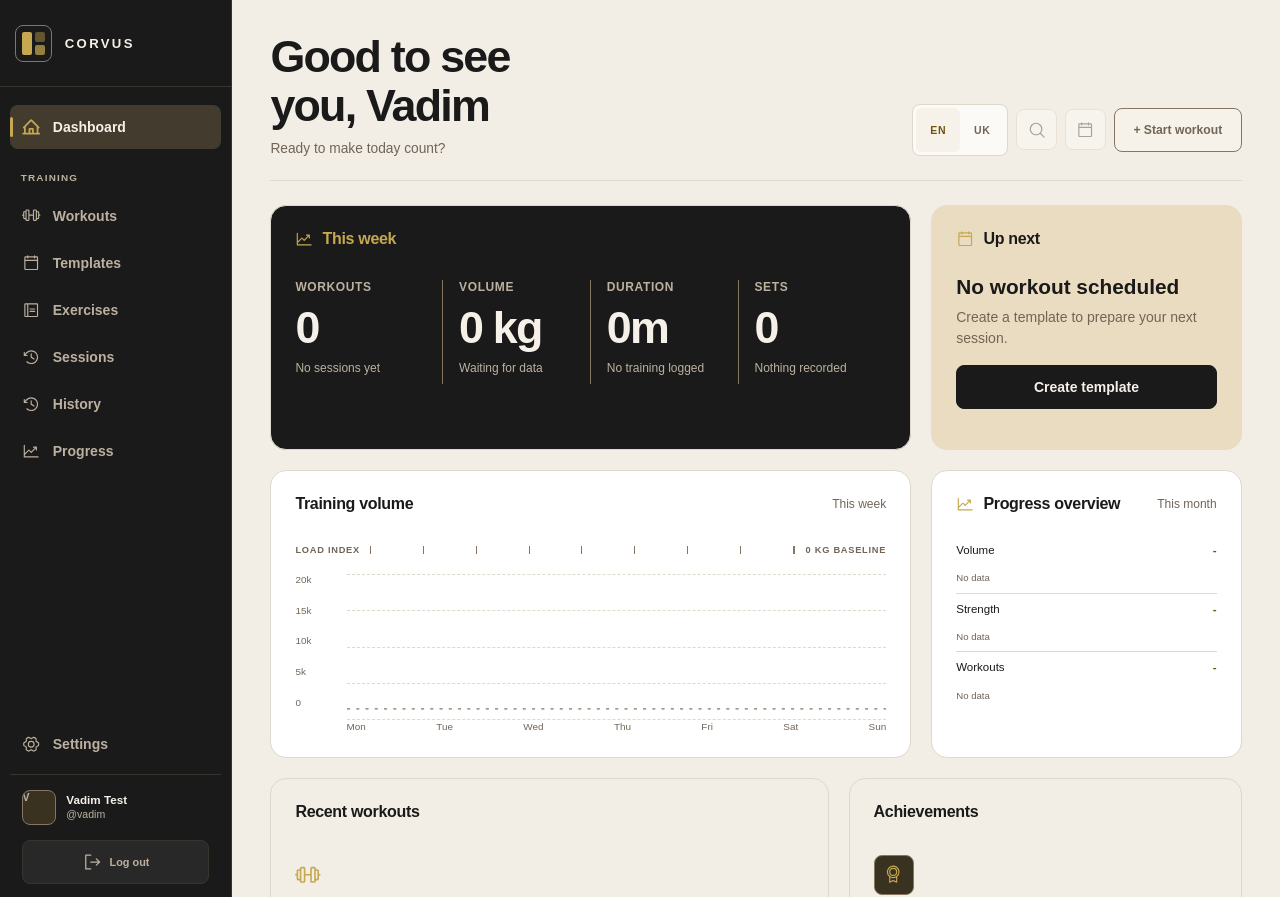
it: exercise catalog › searches across localized names and muscle groups, then offers recovery
The image size is (1280, 897).
Step 1. Click the button "Exercises" → (116, 310), box [10,288,221,332]
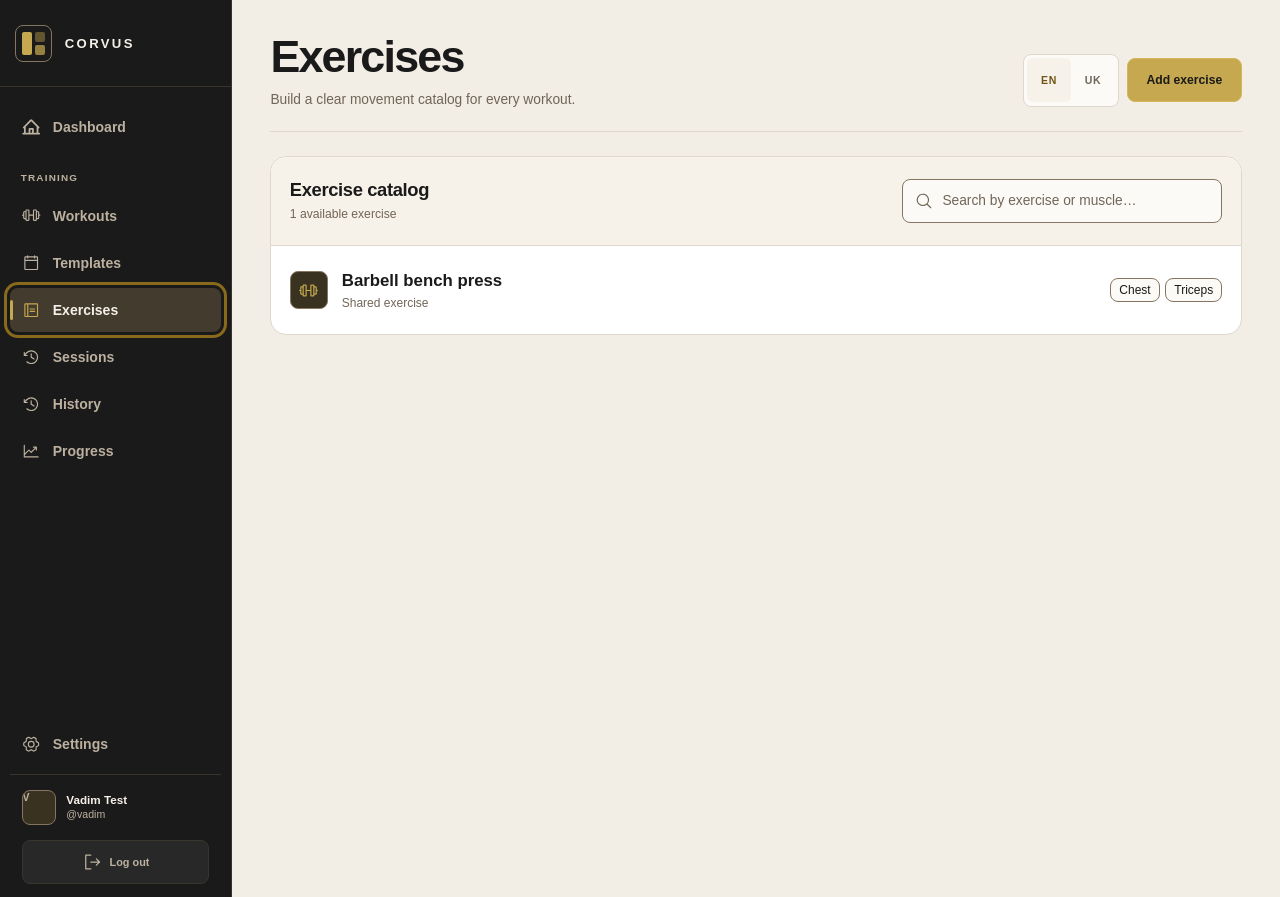
Now the heading "Barbell bench press" is shown, box [342,270,502,292]
Step 2. Type "bench груди" into the search field named "Search exercises" → (1062, 201), box [902,179,1222,223]
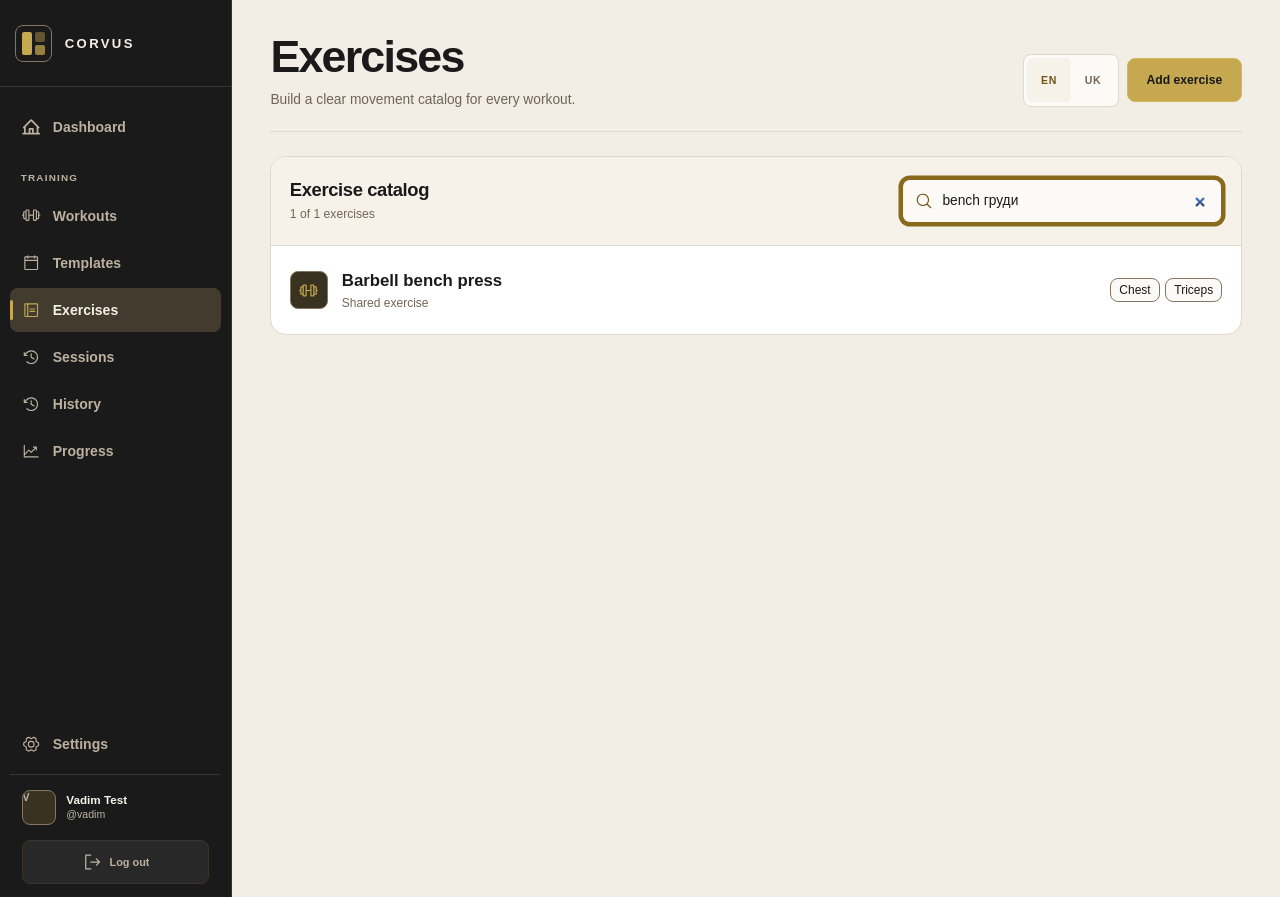
Now the heading "Barbell bench press" is shown, box [342,270,502,292]
Now the text "1 of 1 exercises" is shown, box [290,206,375,220]
Step 3. Replace the text in the search field named "Search exercises" with "squat" → (1062, 201), box [902,179,1222,223]
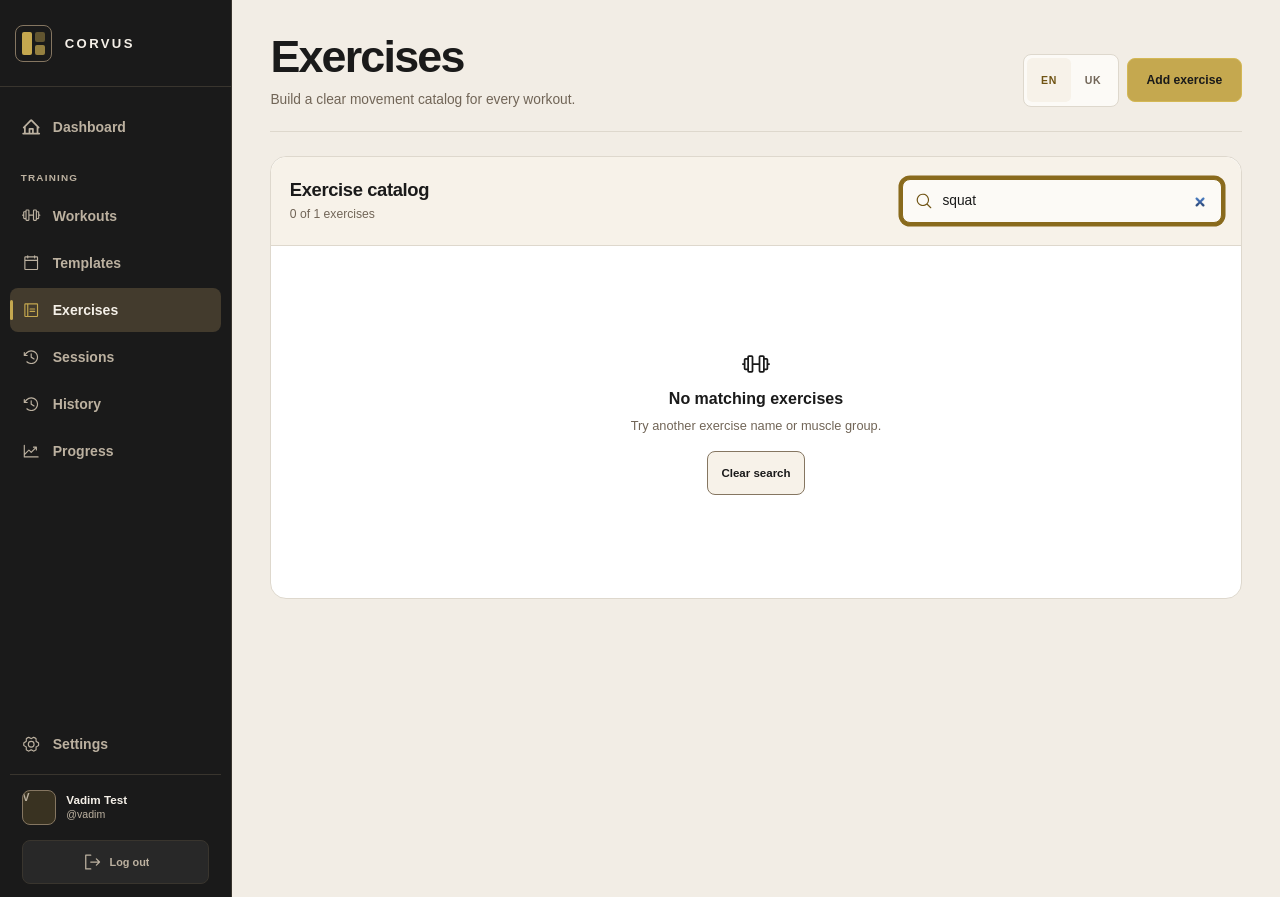
Now the text "0 of 1 exercises" is shown, box [290,206,375,220]
Now the text "No matching exercises" is shown, box [669,390,843,408]
Step 4. Click the button "Clear search" → (756, 473), box [707,451,805,495]
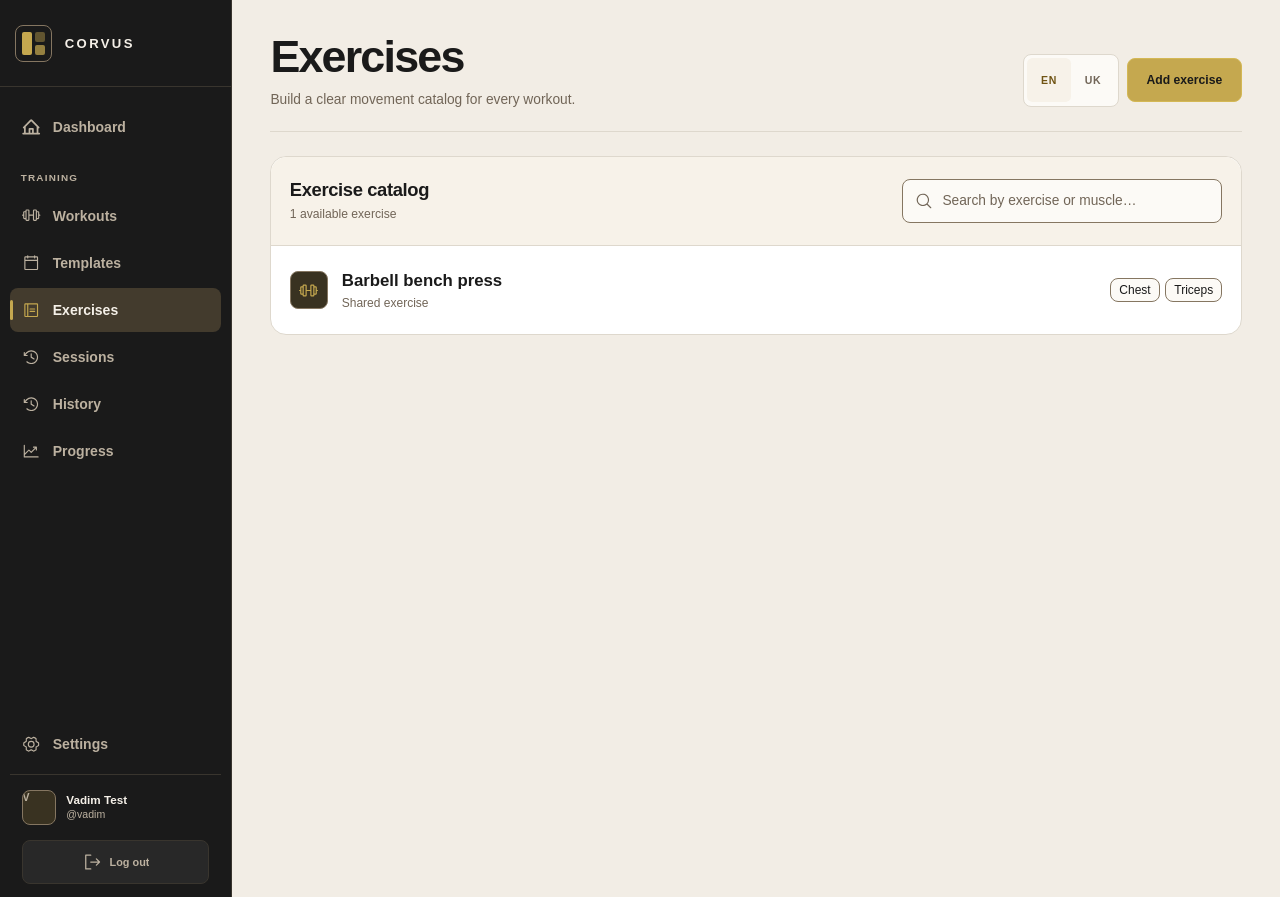
Now the heading "Barbell bench press" is shown, box [342,270,502,292]
Now the text "1 available exercise" is shown, box [290,206,397,220]
